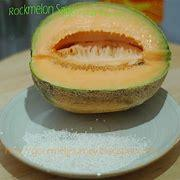Melon Ripe: (29, 1, 171, 111)
